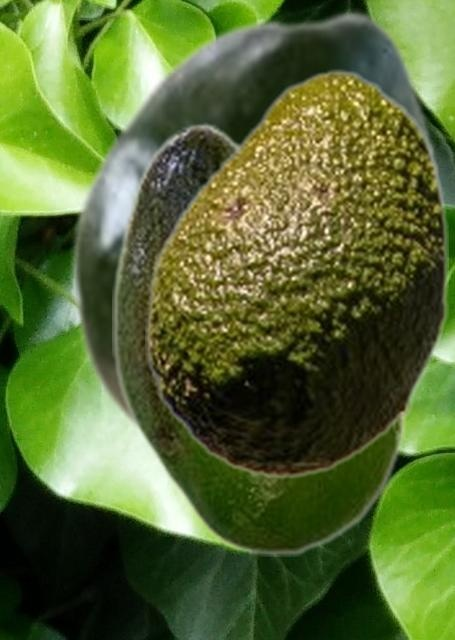avocado: (68, 8, 443, 442), (112, 122, 407, 555), (145, 69, 447, 479)
